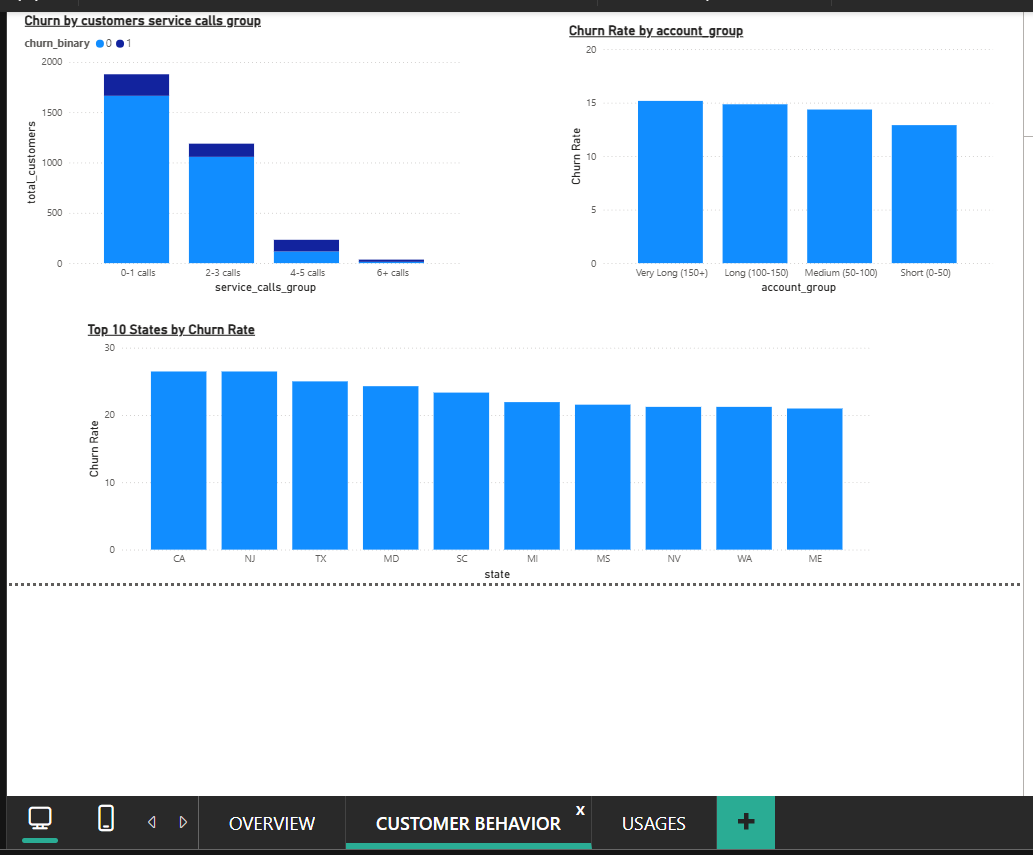

The dashboard page shown, as its layout file describes it:
{"tool":"powerbi","page":{"name":"CUSTOMER BEHAVIOR","canvas":[1280,720],"ordinal":1},"visuals":[{"type":"columnChart","title":"Churn by customers service calls group ","fields":{"Category":["churn_clean.service_calls_group"],"Y":["churn_clean.total_customers"],"Series":["churn_clean.churn_binary"]},"box":[17,0,559.4,359.1],"z":0},{"type":"columnChart","title":"Churn Rate by account_group","fields":{"Category":["churn_clean.account_group"],"Y":["churn_clean.Churn Rate"]},"box":[703,13.2,544.3,345.8],"z":1000},{"type":"clusteredColumnChart","title":"Top 10 States by Churn Rate","fields":{"Category":["churn_clean.state"],"Y":["churn_clean.Churn Rate"]},"box":[96.4,389.3,997.8,330.7],"z":2000}]}

Visuals, with their boxes on the page's 1280x720 design canvas (x1, y1, x2, y2). These are canvas units, not pixel positions in the 1033x855 screenshot, which may show the page scaled, cropped or inside an application window:
"Churn by customers service calls group " columnChart: 17/0/576/359
"Churn Rate by account_group" columnChart: 703/13/1247/359
"Top 10 States by Churn Rate" clusteredColumnChart: 96/389/1094/720
